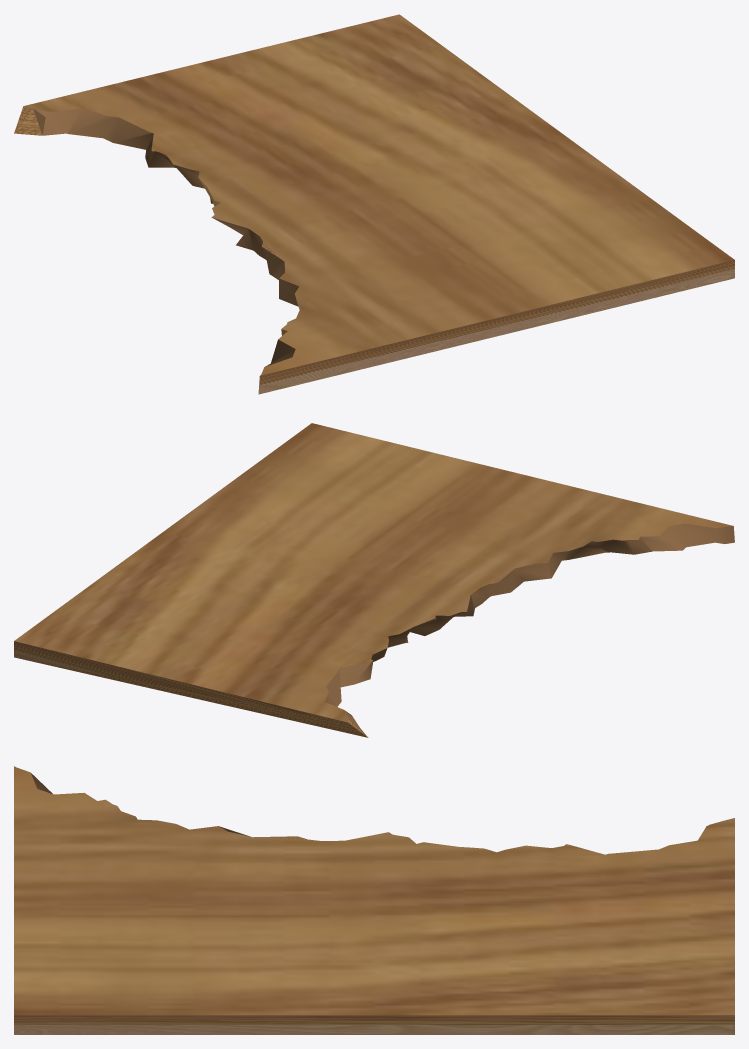
Rendered from WoodBoard.glb.
The picture shows the model from 3 angles, top to bottom: view 1: azimuth 30°, elevation 25°; view 2: azimuth 150°, elevation 25°; view 3: azimuth 270°, elevation 25°; orthographic projection. The views are drawn at different scales.
Parts seen in each view (by area): view 1: WoodBoard; view 2: WoodBoard; view 3: WoodBoard.
Boxes of the visible parts, x1,y1,x2,y2 form: WoodBoard: [14, 14, 734, 394]; WoodBoard: [14, 423, 734, 737]; WoodBoard: [14, 766, 734, 1034].
Size of the model in its own units: 0.6466 by 0.0239 by 0.7885.
Materials: 1 (1 with a texture image).
